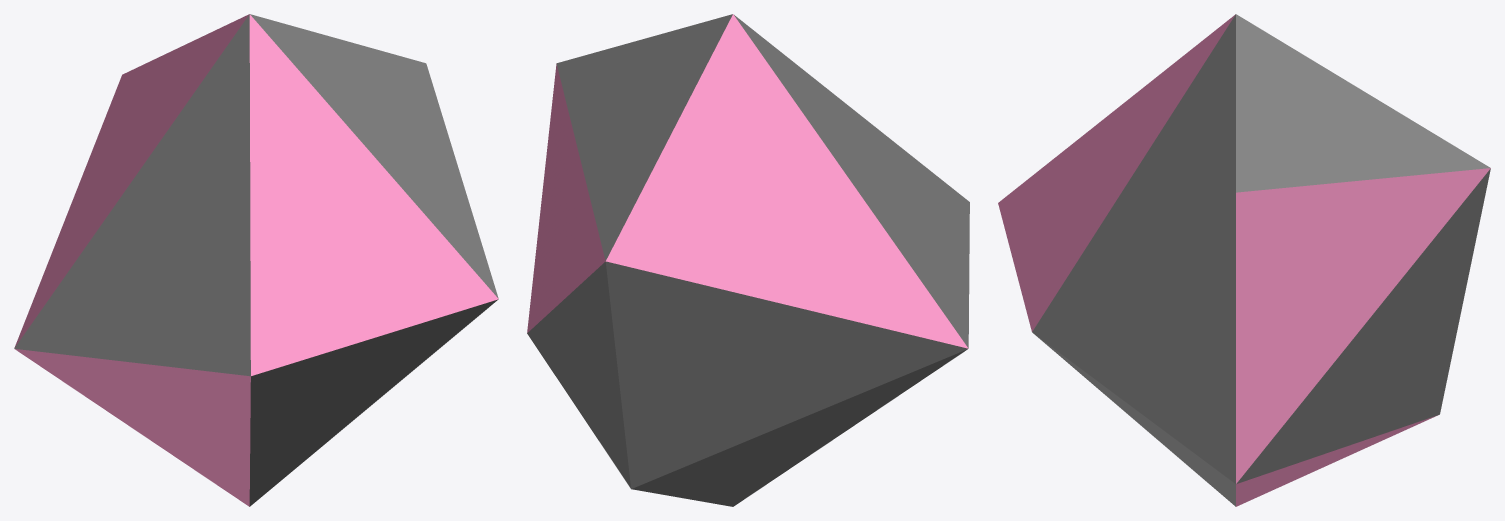
The model's file is rock_hermit.obj.
The picture shows the model from 3 angles, left to right: view 1: azimuth 30°, elevation 25°; view 2: azimuth 150°, elevation 25°; view 3: azimuth 270°, elevation 25°; orthographic projection.
Parts seen in each view (by area): view 1: rock_hermit; view 2: rock_hermit; view 3: rock_hermit.
Part boxes in pixels (bbox=[...]): rock_hermit: bbox=[14, 14, 498, 506]; rock_hermit: bbox=[527, 14, 969, 506]; rock_hermit: bbox=[998, 14, 1490, 506].
Bounding box in the file's own units: 150 × 160 × 145.
